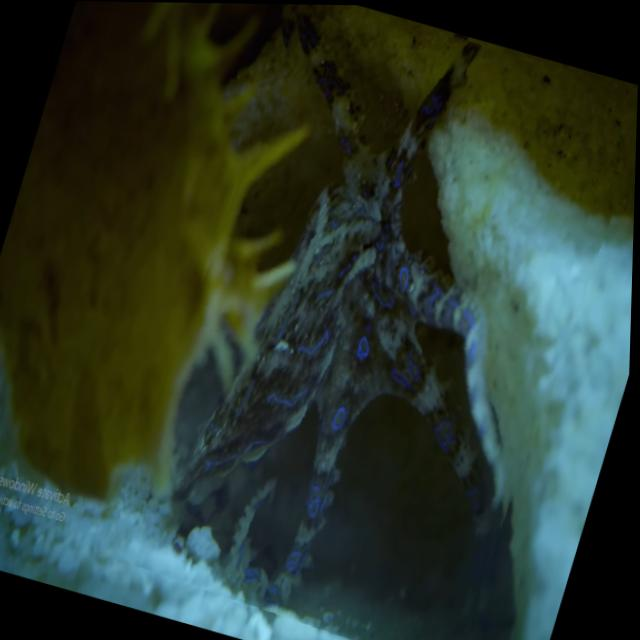blue_ringed_octopus: (110, 1, 640, 640)
